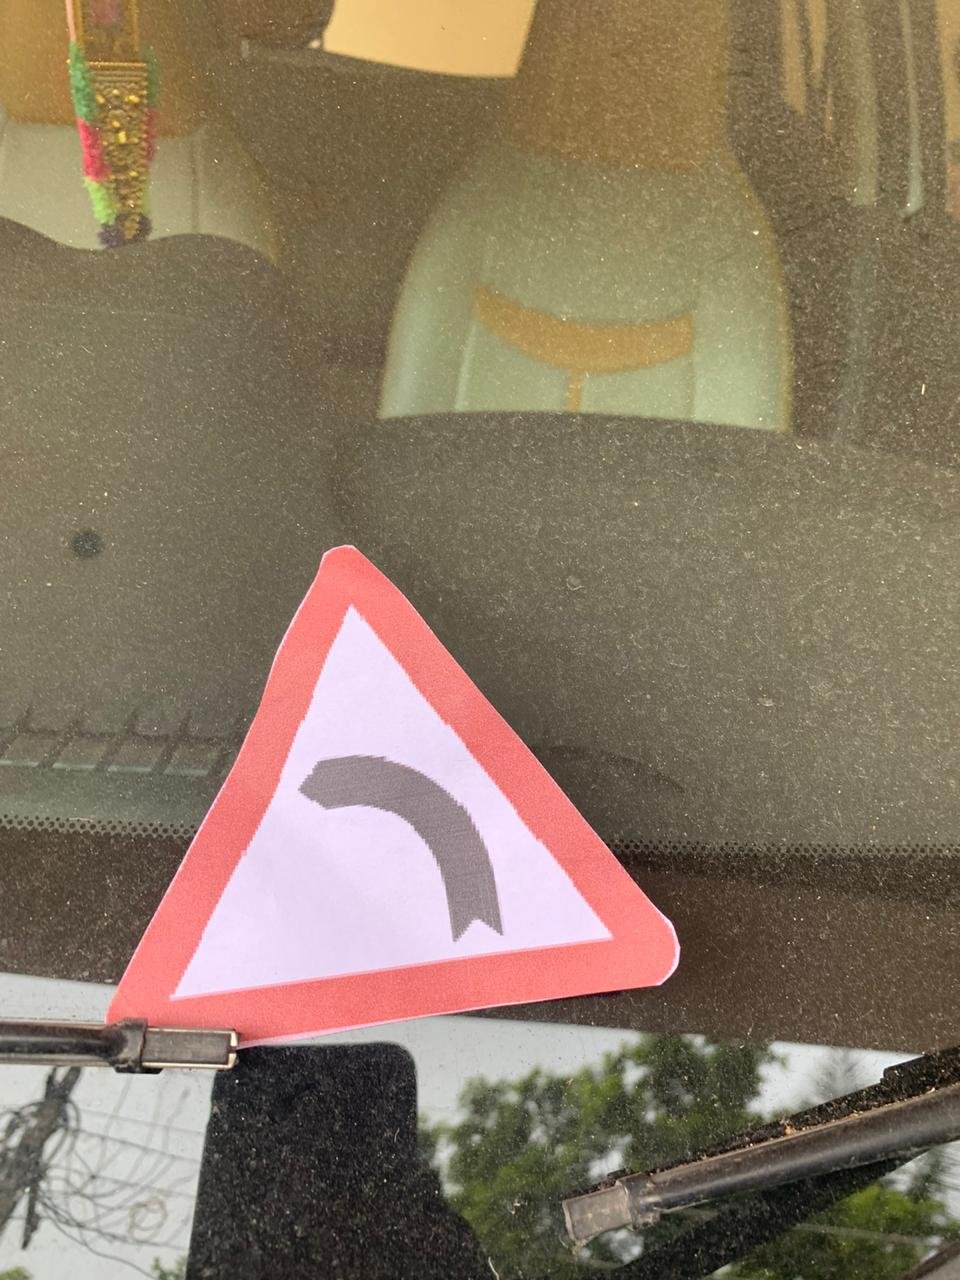LEFT CURVE: (55, 527, 764, 1068)
